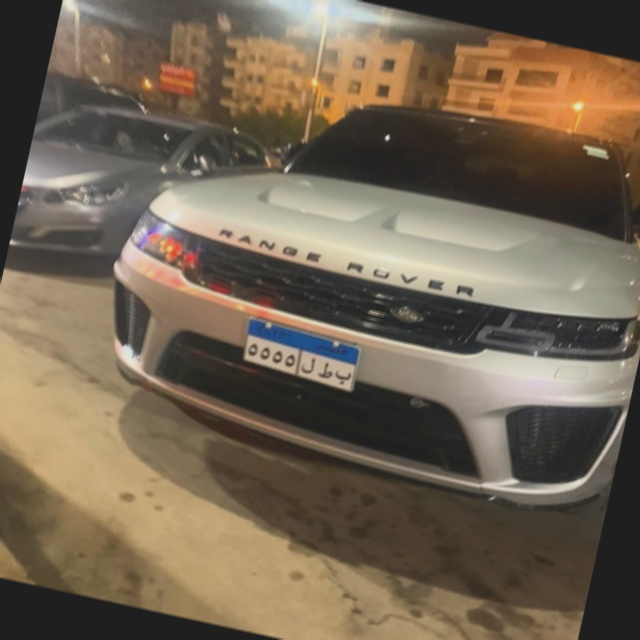License Plate: (236, 315, 366, 395)
